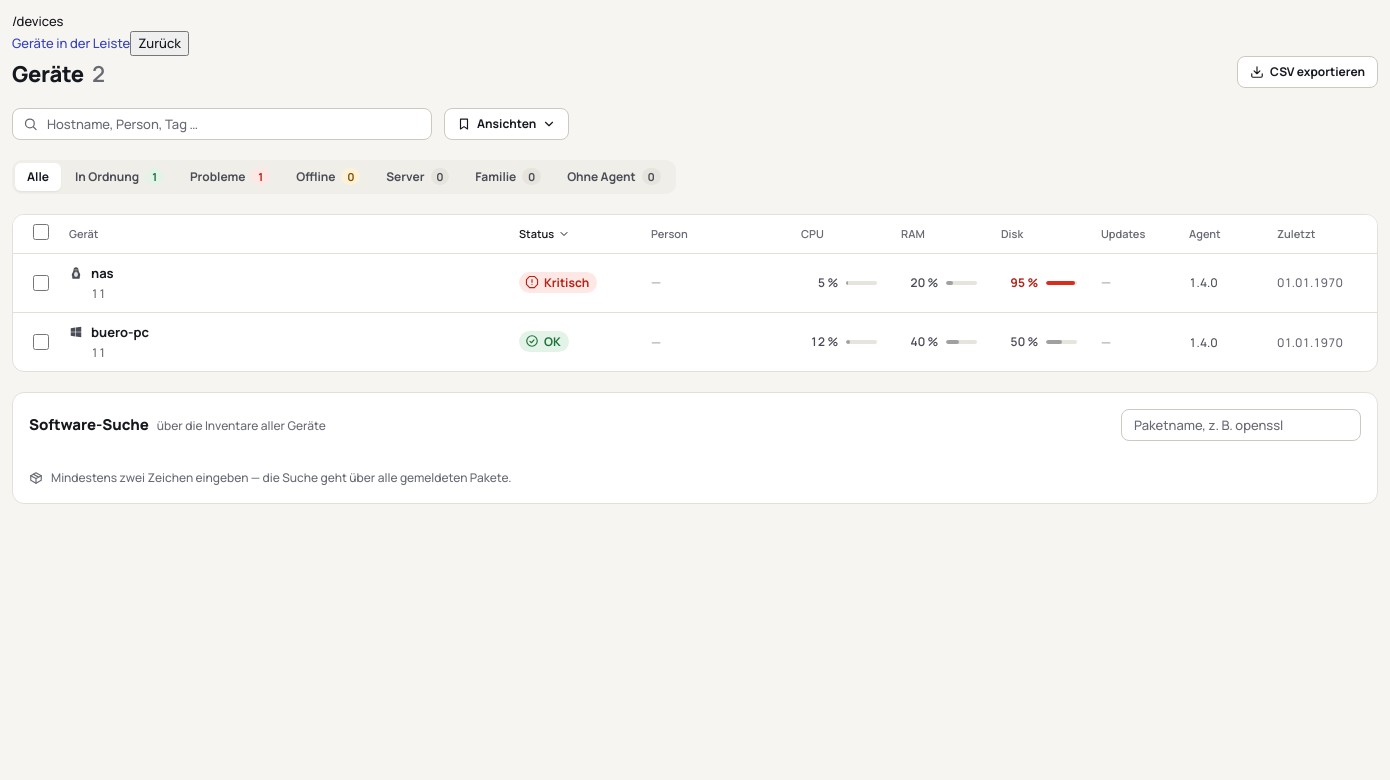
Scenario: DevicesPage Auswahl › zeigt die Aktionsleiste, sobald etwas ausgewählt ist
The image size is (1390, 780).
Step 1. Click the checkbox named "nas auswählen" → (41, 283), box top-left (33, 275), bottom-right (49, 291)
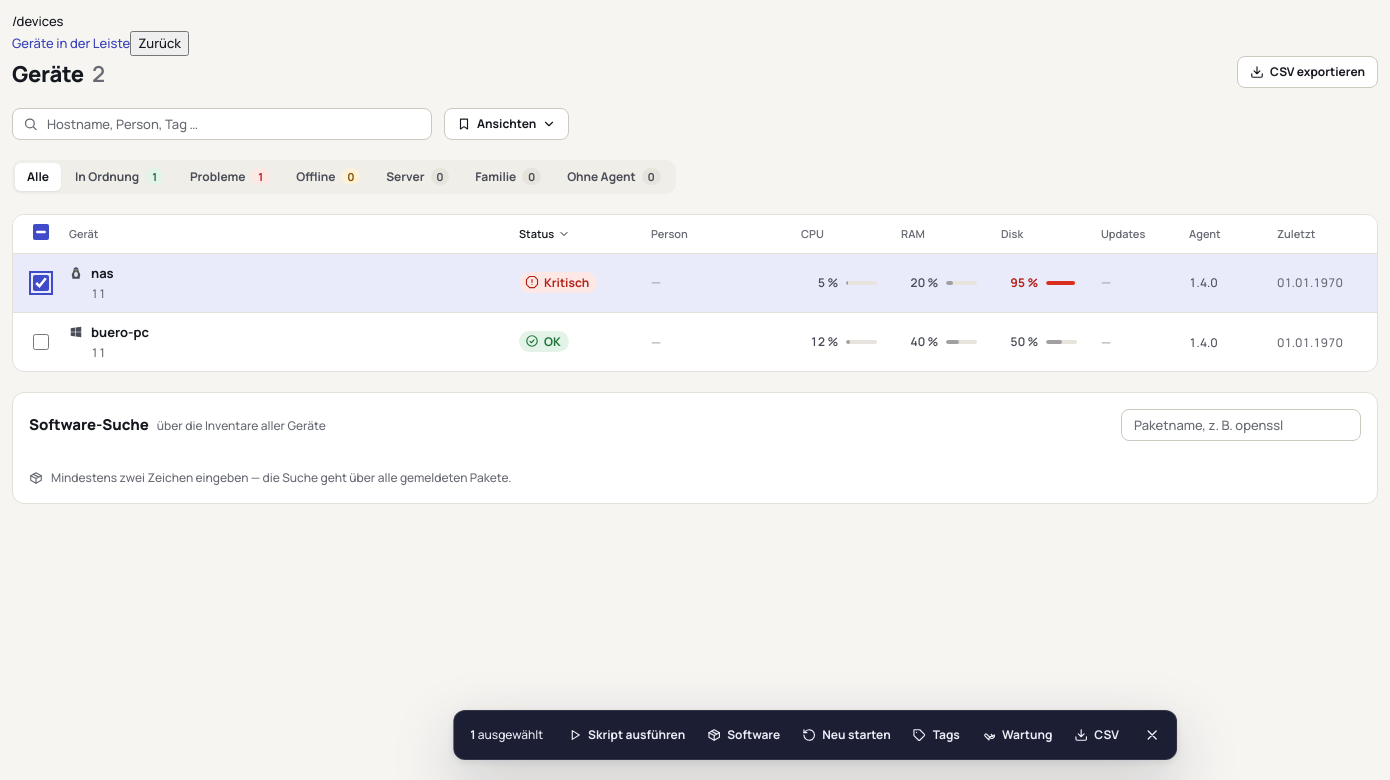
Check: the text "1 ausgewählt" is shown, box top-left (470, 726), bottom-right (543, 744)
Step 2. Click the button named "Auswahl aufheben" → (1152, 735), box top-left (1136, 719), bottom-right (1168, 751)
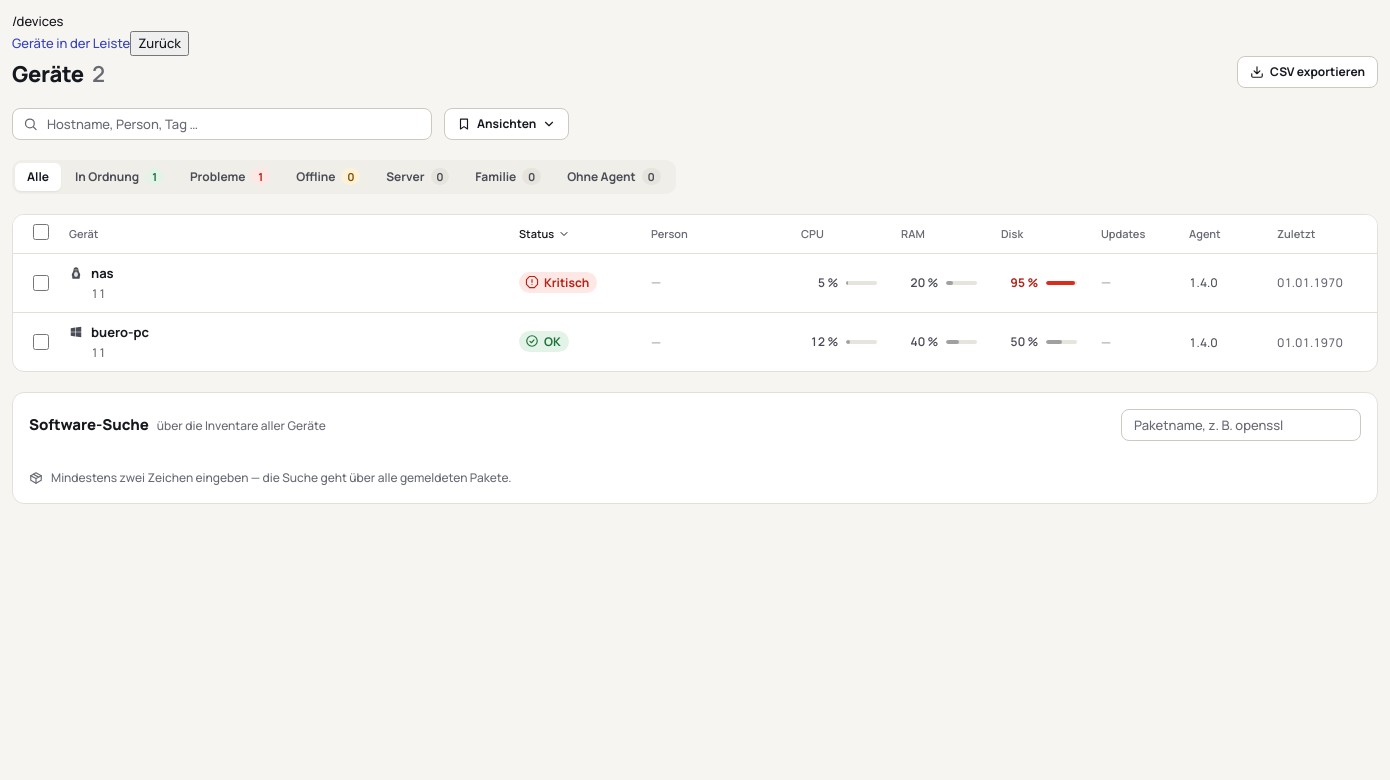
Check: the button "Auswahl" is gone
